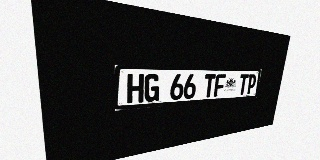6: (170, 74, 185, 100), (183, 74, 197, 99)
F: (213, 74, 226, 97)
G: (144, 74, 160, 102)
H: (127, 74, 144, 104)
P: (246, 74, 257, 94)
T: (203, 74, 216, 98), (238, 74, 249, 95)
